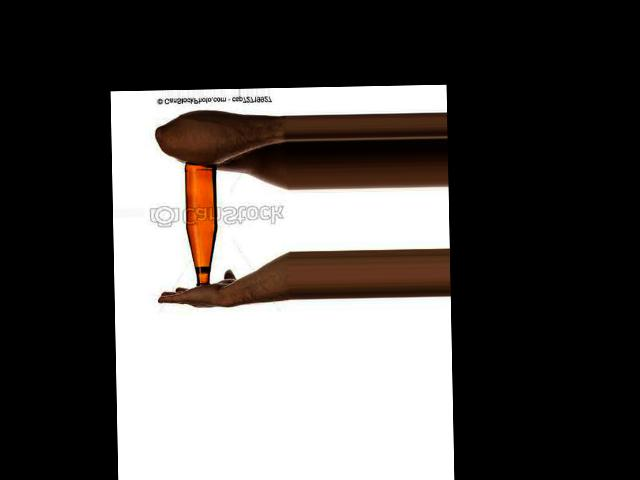beer: (184, 163, 219, 287)
